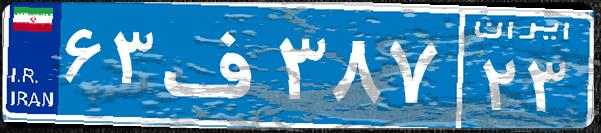2: (475, 38, 525, 113)
3: (273, 28, 330, 110), (110, 28, 158, 105), (525, 38, 570, 115)
6: (57, 26, 110, 107)
7: (385, 28, 445, 110)
8: (330, 28, 385, 110)
ف: (158, 15, 273, 115)
